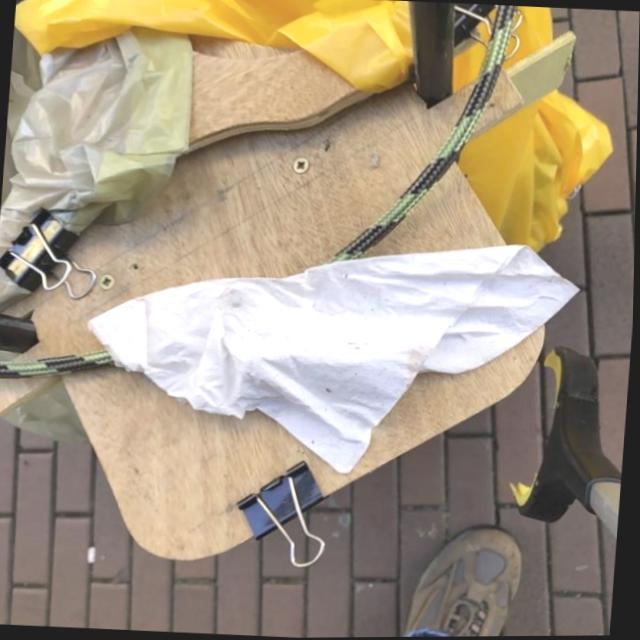Paper: (73, 220, 587, 491)
